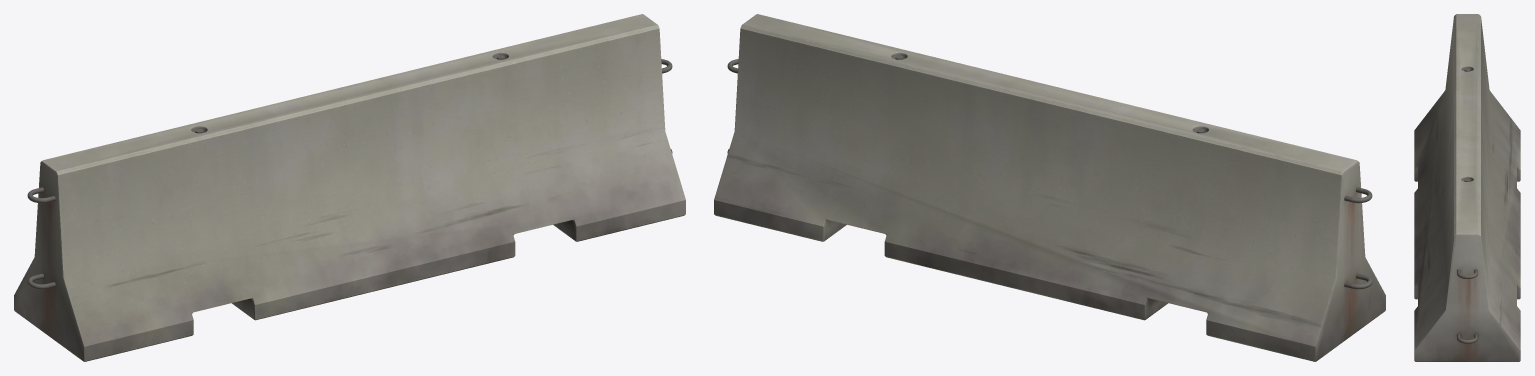
The model's file is jersey-barrier.glb.
3 views of the same model, side by side, from view 1: azimuth 30°, elevation 25°; view 2: azimuth 150°, elevation 25°; view 3: azimuth 270°, elevation 25° (orthographic). The views are drawn at different scales.
Visible parts, largest first — view 1: jersey-barrier_body; view 2: jersey-barrier_body; view 3: jersey-barrier_body.
Boxes of the visible parts, x1,y1,x2,y2 form: jersey-barrier_body: (14, 14, 685, 361); jersey-barrier_body: (714, 14, 1385, 361); jersey-barrier_body: (1414, 14, 1520, 361).
Size of the model in its own units: 3.19 by 0.8129 by 0.6094.
Materials: 1 (1 with a texture image).
